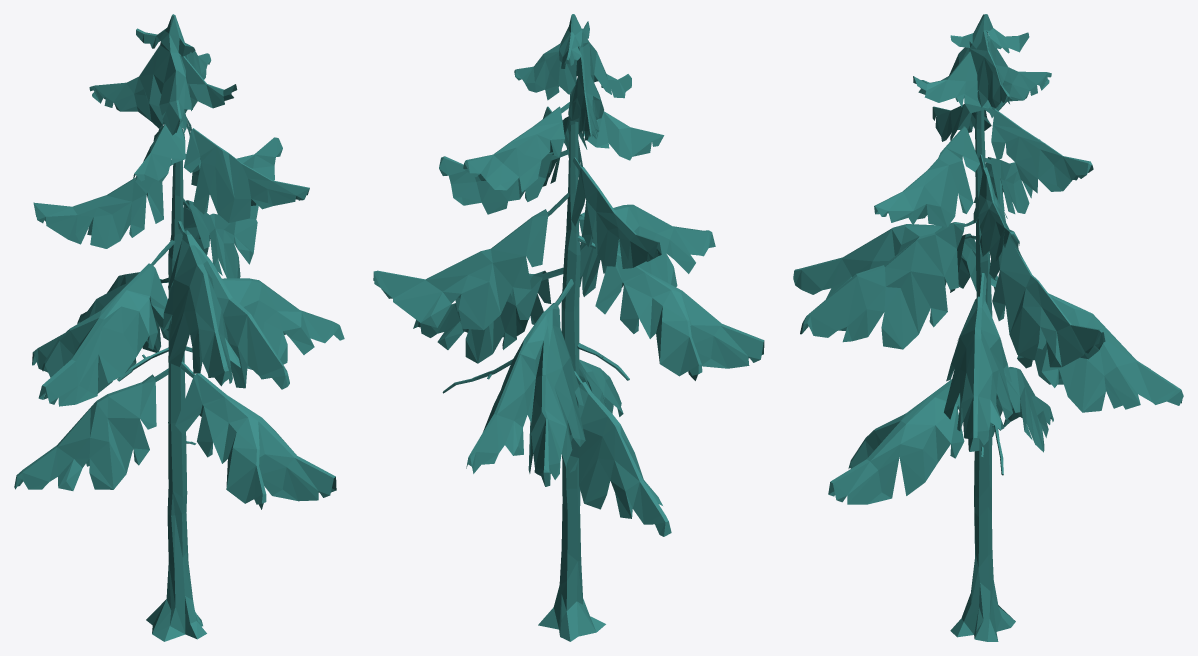
The model's file is SM_Tree_Spruce_Young.fbx.
3 renders of one model, left to right at view 1: azimuth 30°, elevation 25°; view 2: azimuth 150°, elevation 25°; view 3: azimuth 270°, elevation 25°, orthographic.
Visible parts, largest first — view 1: SM_Tree_Spruce_Young; view 2: SM_Tree_Spruce_Young; view 3: SM_Tree_Spruce_Young.
Boxes of the visible parts, x1,y1,x2,y2 form: SM_Tree_Spruce_Young: (14,14,344,641); SM_Tree_Spruce_Young: (373,14,764,641); SM_Tree_Spruce_Young: (793,14,1183,641).
Bounding box in the file's own units: 5.12 × 9.24 × 5.33.
